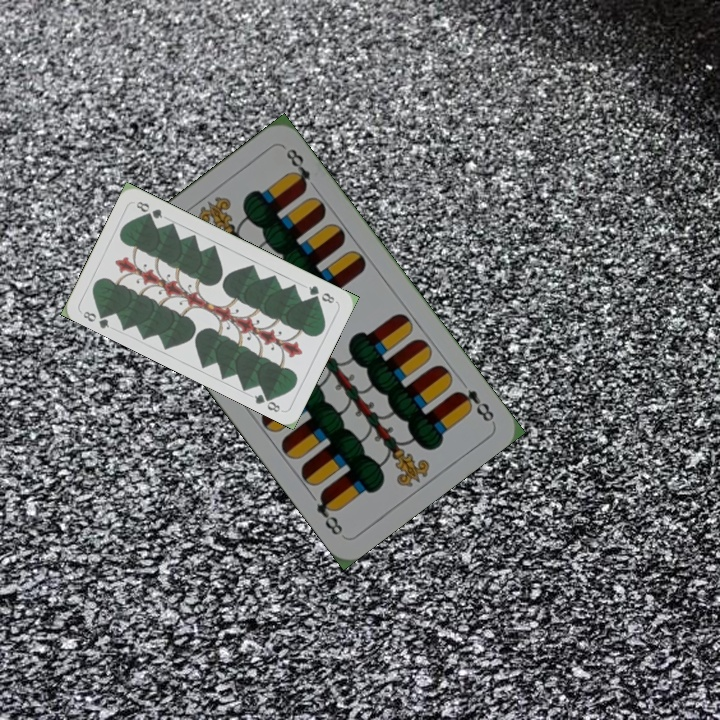E8: (451, 385, 497, 425)
G8: (304, 281, 337, 306), (79, 306, 112, 331)
